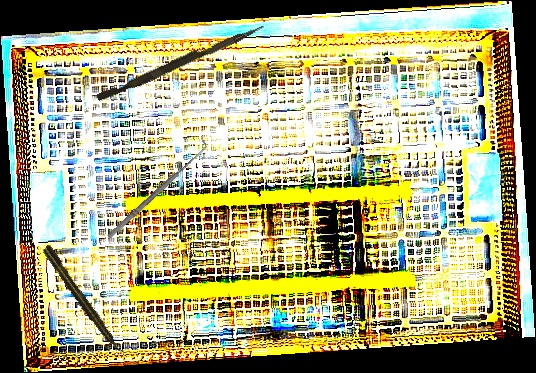Handpiece: (40, 243, 126, 358)
Hook Surgical: (102, 138, 212, 241)
Pusher: (95, 18, 266, 106)
